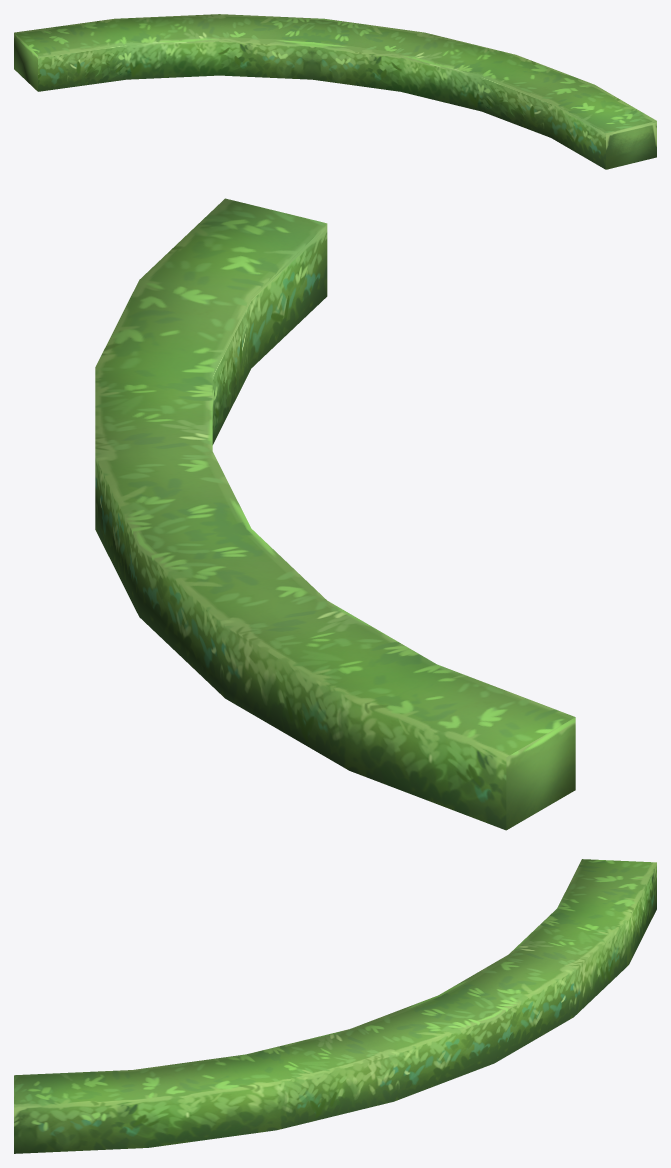
File: Hedge_arc.fbx
The picture shows the model from 3 angles, top to bottom: view 1: azimuth 30°, elevation 25°; view 2: azimuth 150°, elevation 25°; view 3: azimuth 270°, elevation 25°; orthographic projection. The views are drawn at different scales.
Parts seen in each view (by area): view 1: Hedge_arc; view 2: Hedge_arc; view 3: Hedge_arc.
Boxes of the visible parts, <box> form: Hedge_arc: <box>14,14,656,169</box>; Hedge_arc: <box>95,198,575,830</box>; Hedge_arc: <box>14,859,656,1153</box>.
Bounding box in the file's own units: 655 × 57.61 × 718.
